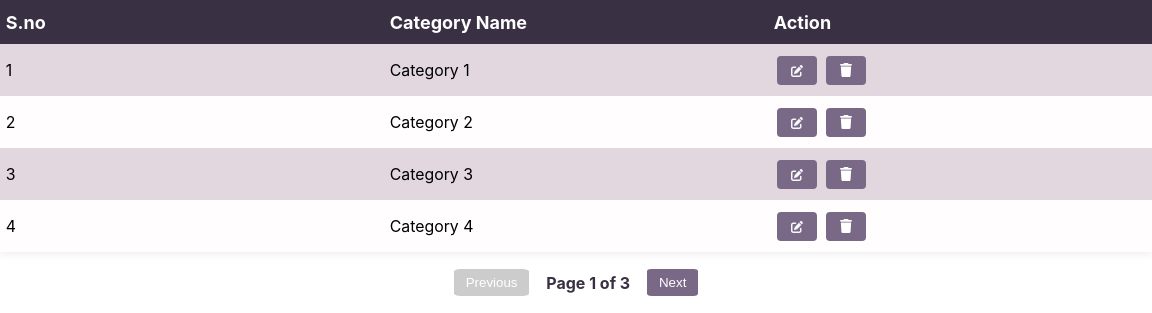
Test: CategoryTable Component › should handle pagination when there are multiple pages
Expected: the text "Category 1" is shown, [384,44,768,96]
Expected: the text "Page 1 of 3" is shown, [546,273,630,293]
Click the button "Next": [673, 283] box [647,269,698,296]
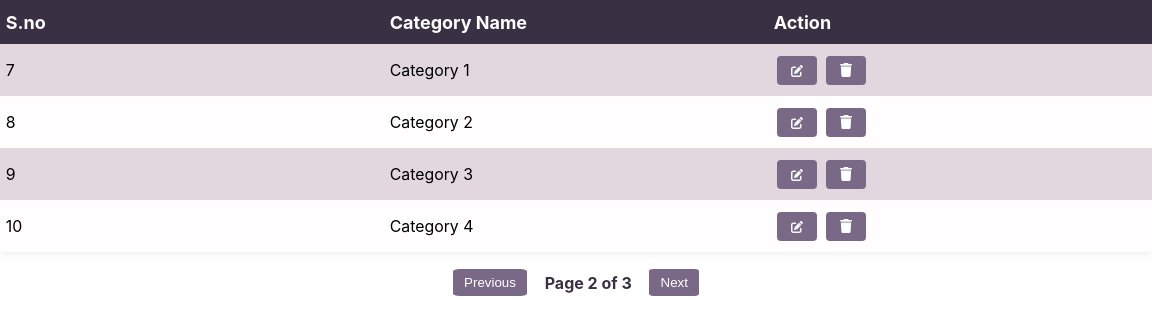
Expected: the text "Category 2" is shown, [384,96,768,148]
Result: the text "Page 2 of 3" is shown at [545,273,632,293]
Click the button "Next": [674, 283] box [649,269,699,296]
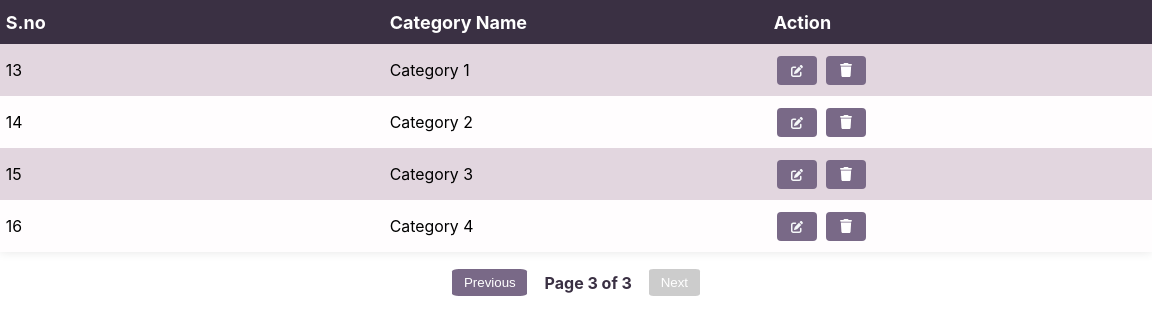
Expected: the text "Category 3" is shown, [384,148,768,200]
Result: the text "Page 3 of 3" is shown at [545,273,632,293]
Result: the button "Next" is disabled at [649,269,700,296]
